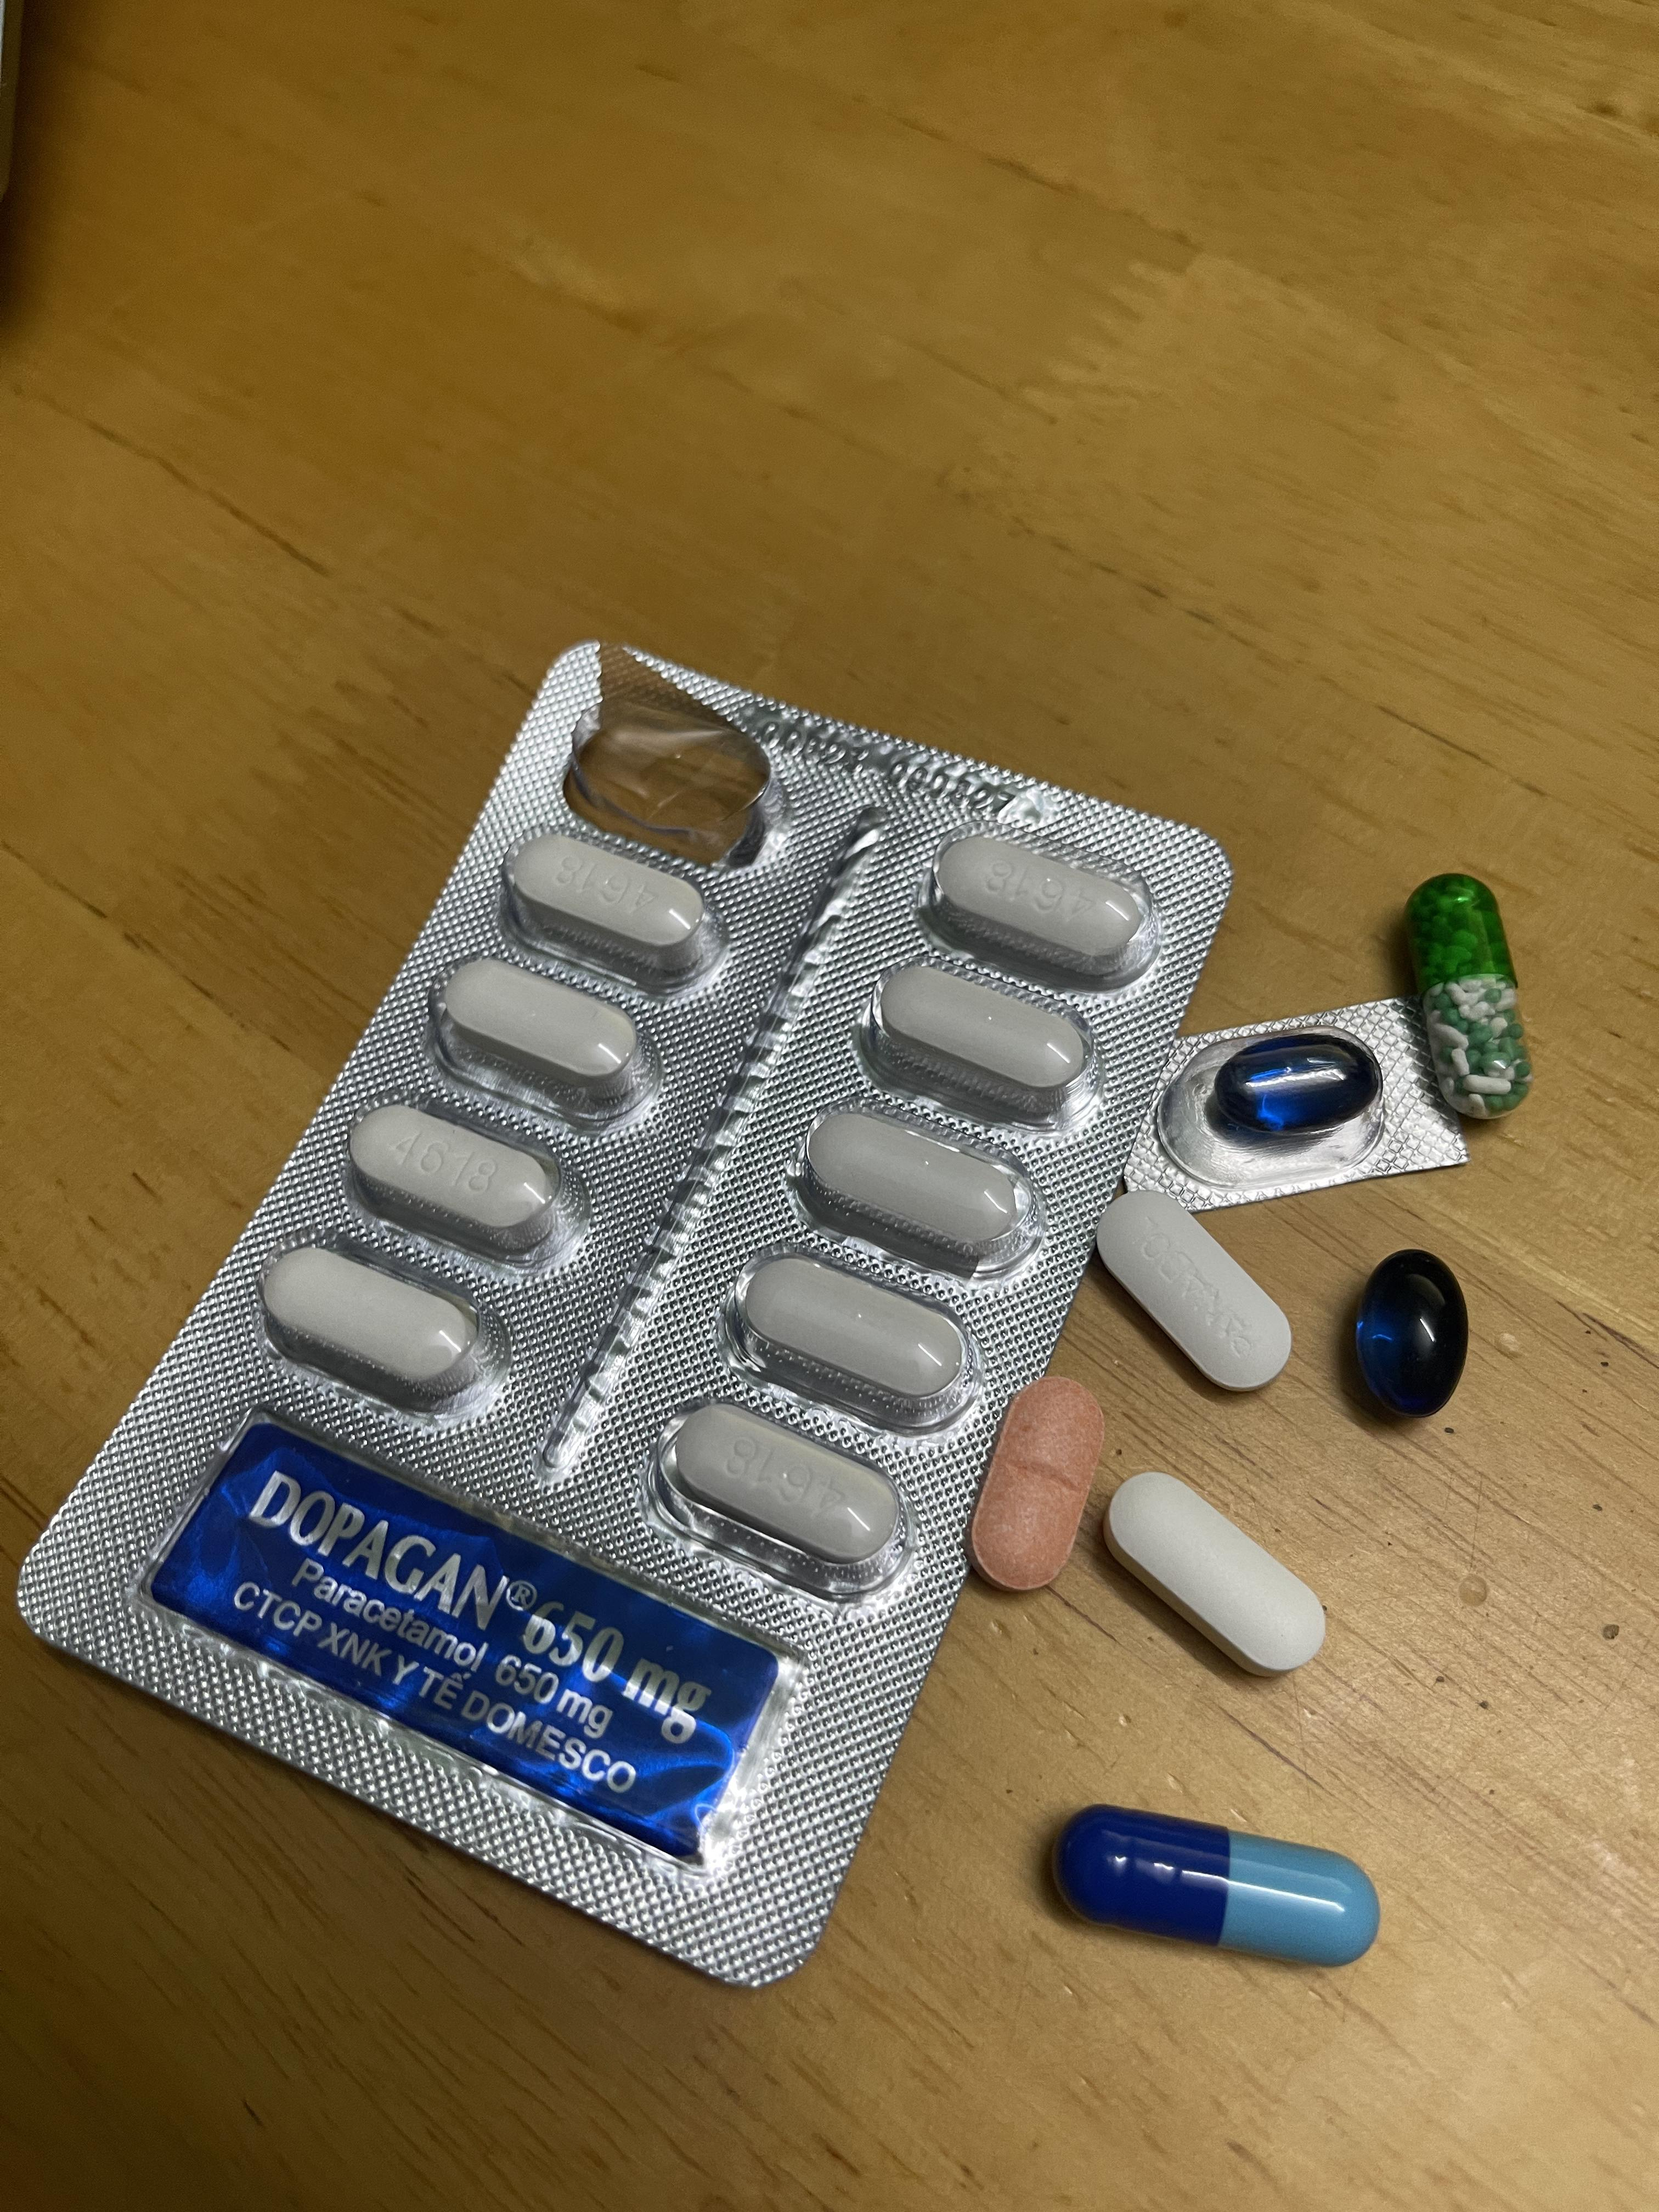Lincomyxin_500mg: (1356, 1249, 1469, 1420), (1209, 1036, 1377, 1137)
Loratadine_10mg: (965, 1376, 1112, 1590)
Paracetamol_350mg: (1096, 1190, 1290, 1395)
Paracetamol_500mg: (652, 1395, 906, 1585), (723, 1249, 985, 1433), (261, 1242, 505, 1426), (1107, 1475, 1324, 1676), (798, 1104, 1032, 1275), (349, 1099, 577, 1266), (870, 960, 1096, 1125), (502, 833, 725, 995), (441, 954, 648, 1104), (936, 833, 1145, 972)
Paracetamol_650mg: (1412, 878, 1532, 1113)
pill: (1060, 1815, 1371, 1959)
